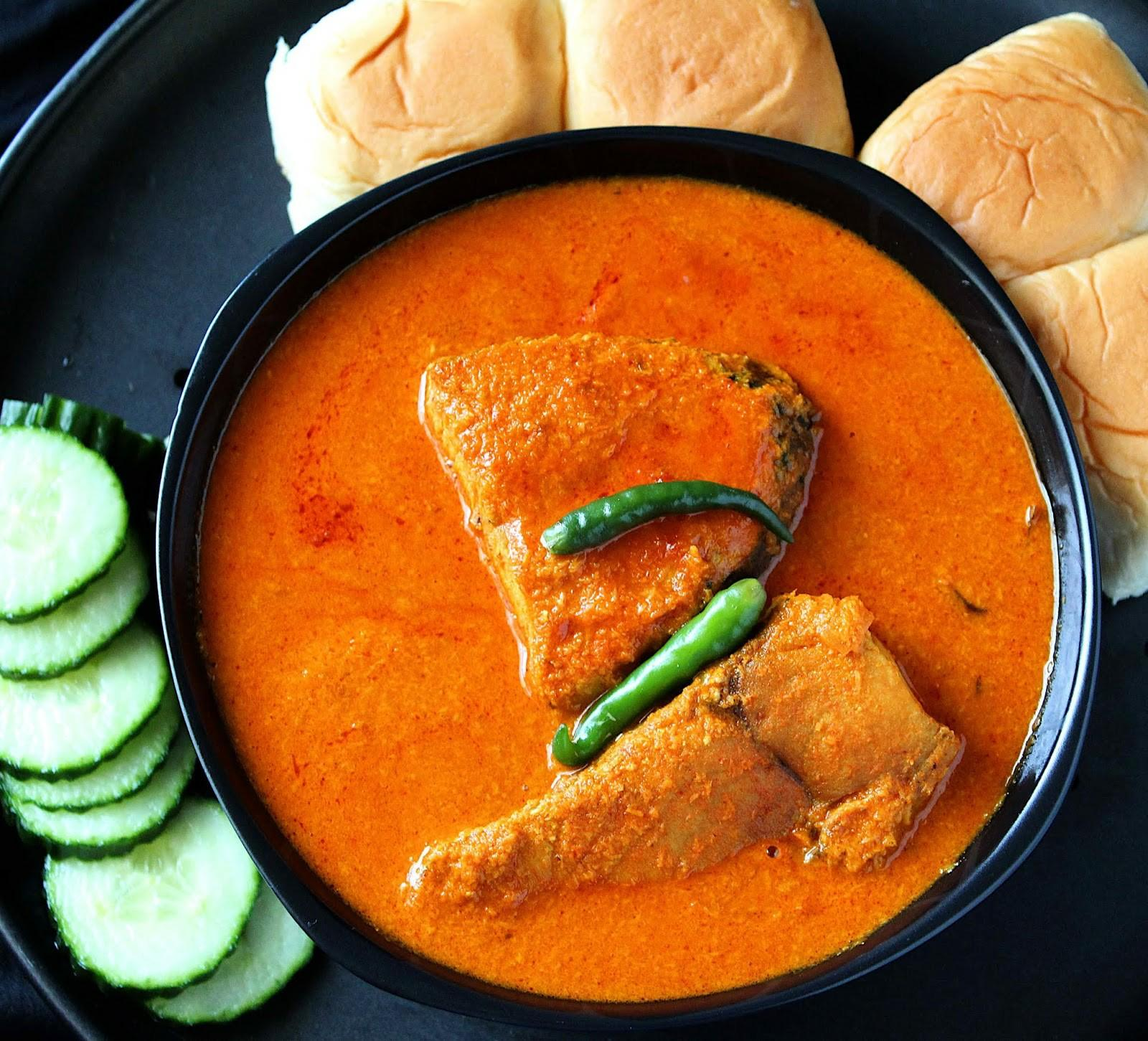FishCurry: (190, 166, 1061, 997)
